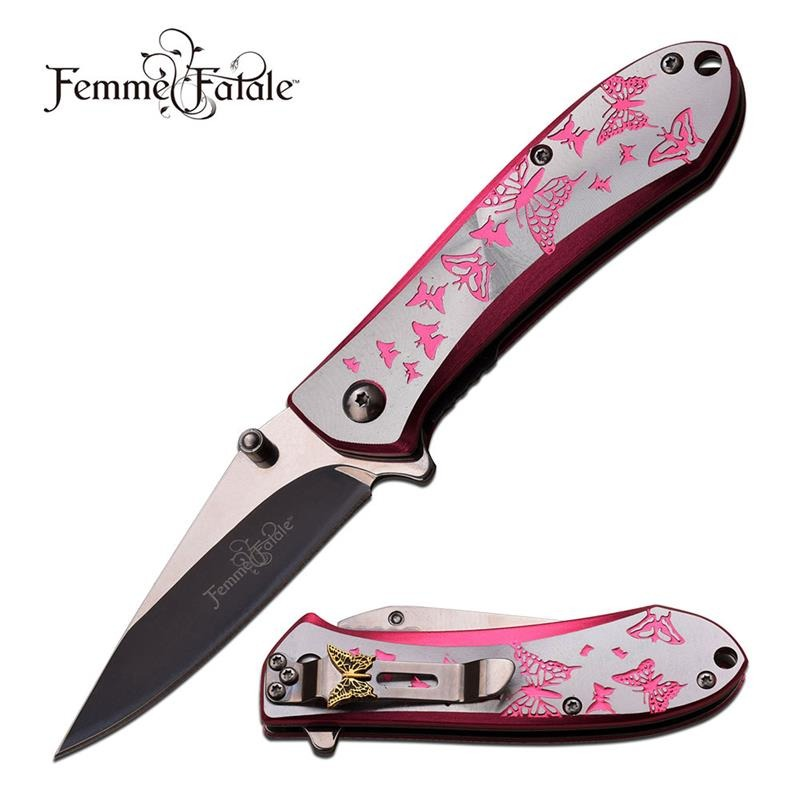knife: (65, 33, 748, 767), (255, 592, 753, 767)
